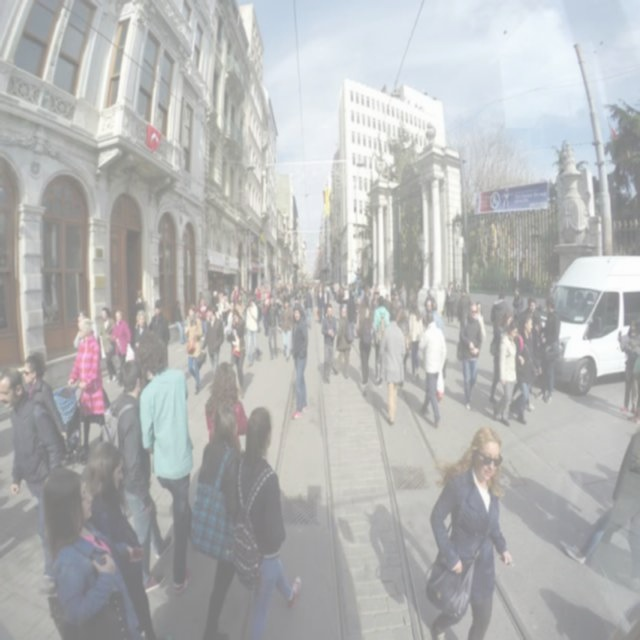pessoa: (422, 417, 513, 639), (40, 464, 146, 639), (134, 328, 198, 598), (234, 404, 304, 639), (0, 361, 69, 598), (84, 441, 158, 638), (189, 402, 244, 638), (560, 428, 640, 576), (102, 357, 153, 584), (271, 278, 435, 336), (58, 312, 106, 466), (202, 358, 250, 448), (21, 351, 68, 442), (74, 306, 112, 416), (512, 313, 544, 427), (377, 306, 407, 426), (417, 310, 447, 430), (456, 298, 483, 412), (492, 318, 518, 428), (288, 298, 310, 422), (536, 294, 560, 406), (616, 316, 640, 423), (518, 294, 542, 396), (488, 310, 513, 406), (489, 282, 524, 350), (354, 293, 375, 399), (224, 308, 248, 399), (568, 288, 610, 340), (200, 302, 224, 380), (183, 304, 203, 396), (372, 296, 392, 387), (110, 305, 132, 387), (98, 305, 119, 384), (406, 294, 424, 386), (332, 304, 352, 380), (320, 302, 338, 386), (264, 294, 282, 362), (245, 294, 261, 370), (147, 297, 171, 347), (278, 297, 294, 364), (396, 302, 410, 378), (252, 281, 270, 335), (130, 308, 148, 360), (440, 282, 458, 330), (172, 298, 189, 346), (210, 288, 230, 328), (230, 281, 250, 316), (130, 286, 146, 322), (456, 286, 470, 326), (475, 300, 487, 344), (431, 300, 446, 335), (226, 298, 237, 338), (196, 290, 206, 330)
